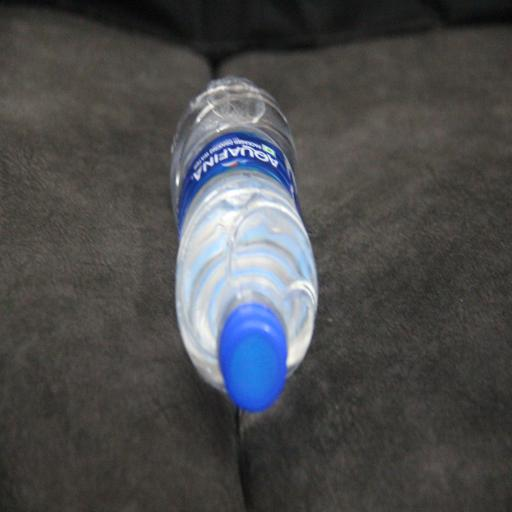Aquafina: (170, 77, 318, 413)
